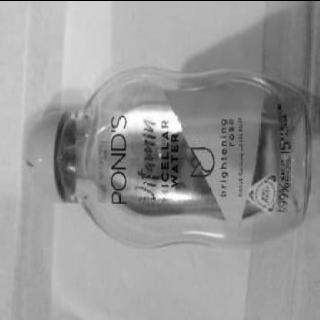objects: (24, 63, 320, 246)
